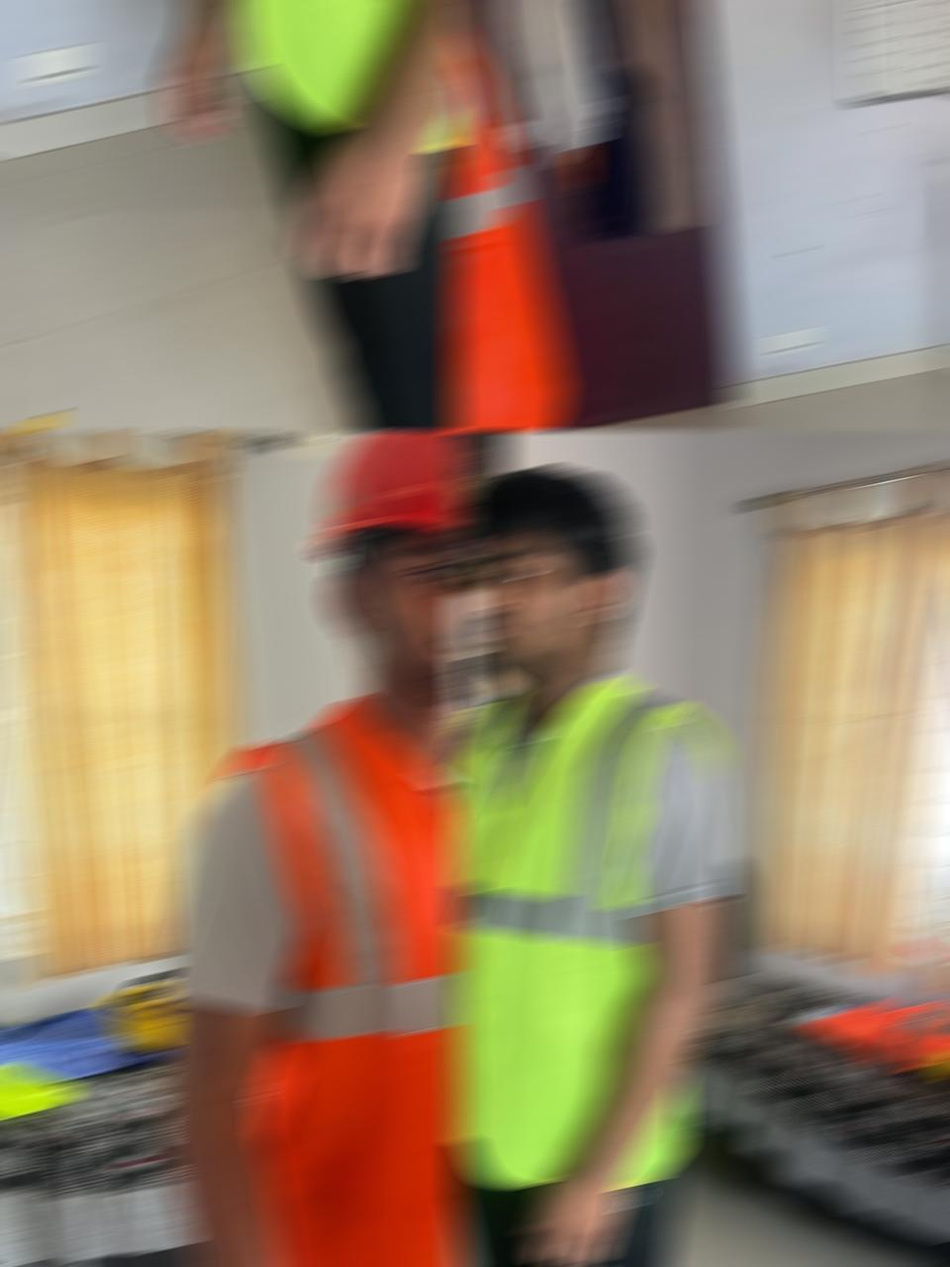Helmet: (312, 432, 461, 558), (97, 972, 178, 1049)
No_Helmet: (460, 467, 639, 687)
Person: (157, 432, 461, 1266), (449, 467, 731, 1266), (157, 1, 461, 430), (449, 1, 613, 430)
Vest: (449, 672, 727, 1186), (219, 696, 461, 1266), (449, 1, 569, 430), (0, 1054, 75, 1122)
